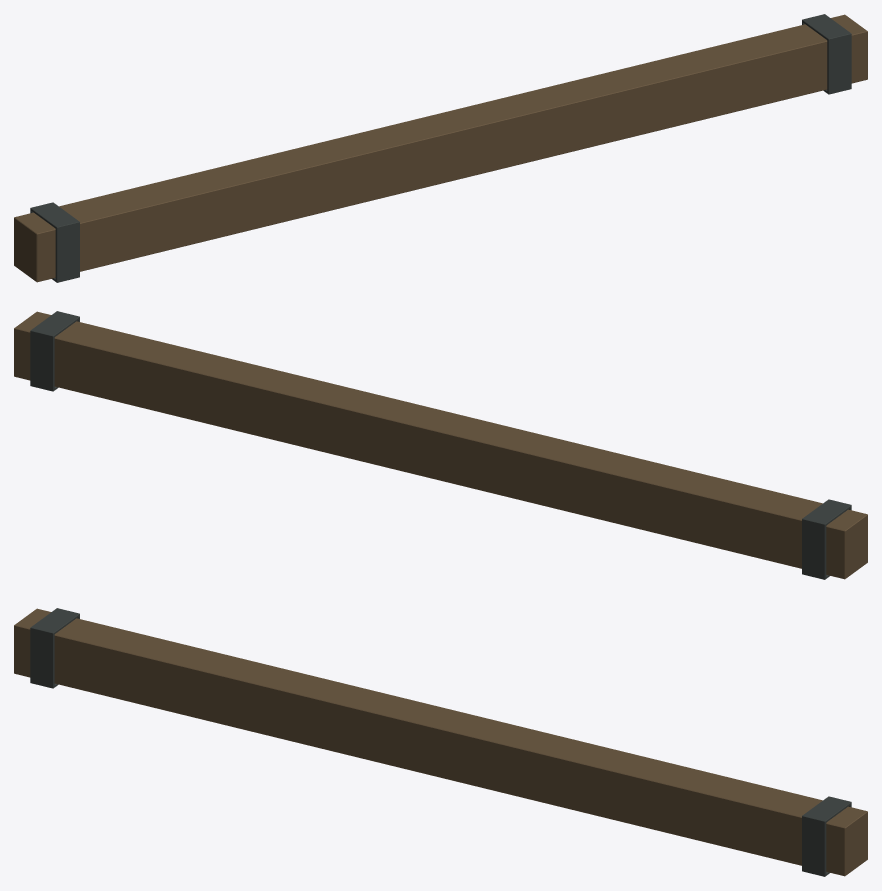
The model's file is SM_Henhouse_Beam_500_A.fbx.
3 renders of one model, top to bottom at view 1: azimuth 30°, elevation 25°; view 2: azimuth 150°, elevation 25°; view 3: azimuth 330°, elevation 25°, orthographic.
Parts seen in each view (by area): view 1: SM_Henhouse_Beam_500_A; view 2: SM_Henhouse_Beam_500_A; view 3: SM_Henhouse_Beam_500_A.
Part boxes in pixels (x1,y1,x2,y2): SM_Henhouse_Beam_500_A: (14, 14, 867, 282); SM_Henhouse_Beam_500_A: (14, 311, 867, 579); SM_Henhouse_Beam_500_A: (14, 608, 867, 876).
Size of what is drawn, in the model's own units: 28 by 500 by 32.
